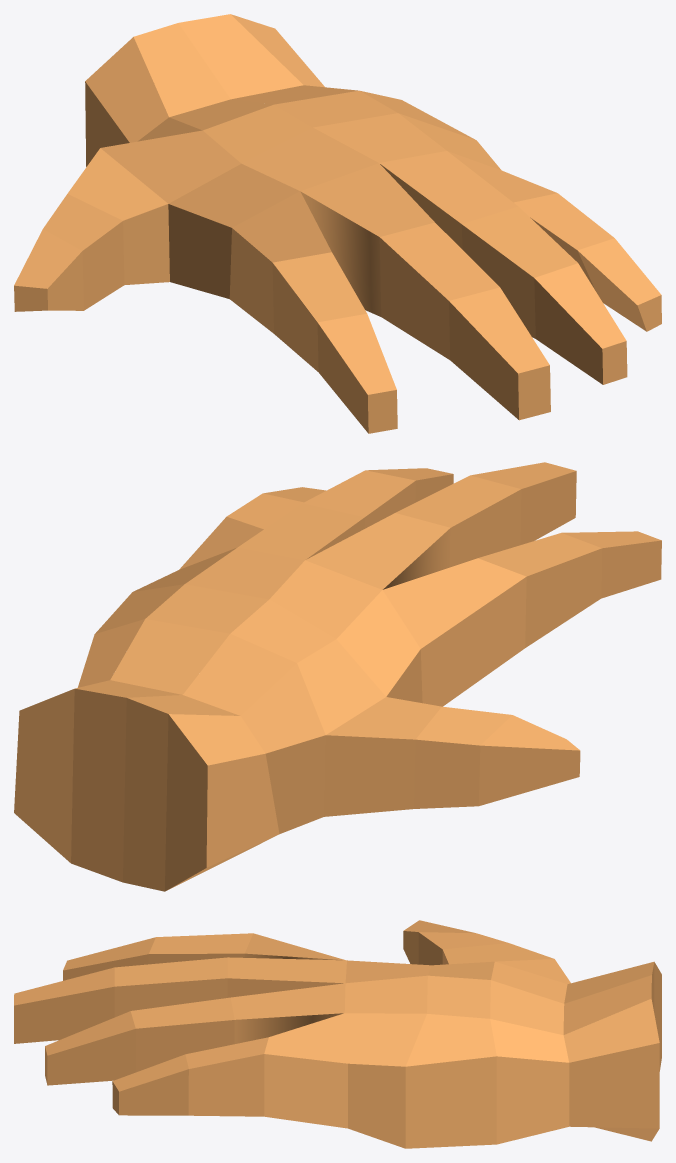
The picture shows the model from 3 angles, top to bottom: view 1: azimuth 30°, elevation 25°; view 2: azimuth 150°, elevation 25°; view 3: azimuth 270°, elevation 25°; orthographic projection. The views are drawn at different scales.
Parts seen in each view (by area): view 1: Low poly cutre Anna <3; view 2: Low poly cutre Anna <3; view 3: Low poly cutre Anna <3.
Part boxes in pixels (x1=…): Low poly cutre Anna <3: x1=14, y1=14, x2=661, y2=433; Low poly cutre Anna <3: x1=14, y1=462, x2=661, y2=891; Low poly cutre Anna <3: x1=14, y1=920, x2=661, y2=1148.
Size of the model in its own units: 483 by 181 by 713.
